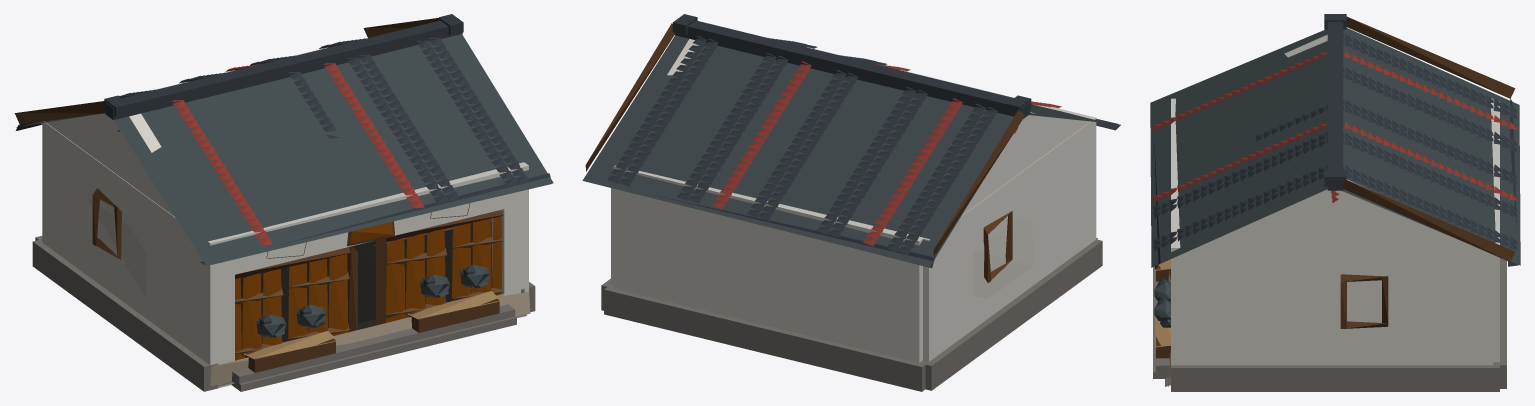
The model's file is lib_lib_house_b1.vc2.glb.
The picture shows the model from 3 angles, left to right: view 1: azimuth 30°, elevation 25°; view 2: azimuth 150°, elevation 25°; view 3: azimuth 270°, elevation 25°; orthographic projection. The views are drawn at different scales.
Visible parts, largest first — view 1: lib_lib_house_b1; view 2: lib_lib_house_b1; view 3: lib_lib_house_b1.
Boxes of the visible parts, box(x1,y1,x2,y2) form: lib_lib_house_b1: box(14, 14, 553, 391); lib_lib_house_b1: box(582, 14, 1120, 391); lib_lib_house_b1: box(1150, 14, 1520, 391).
Bounding box in the file's own units: 7.38 × 4.58 × 7.02.
